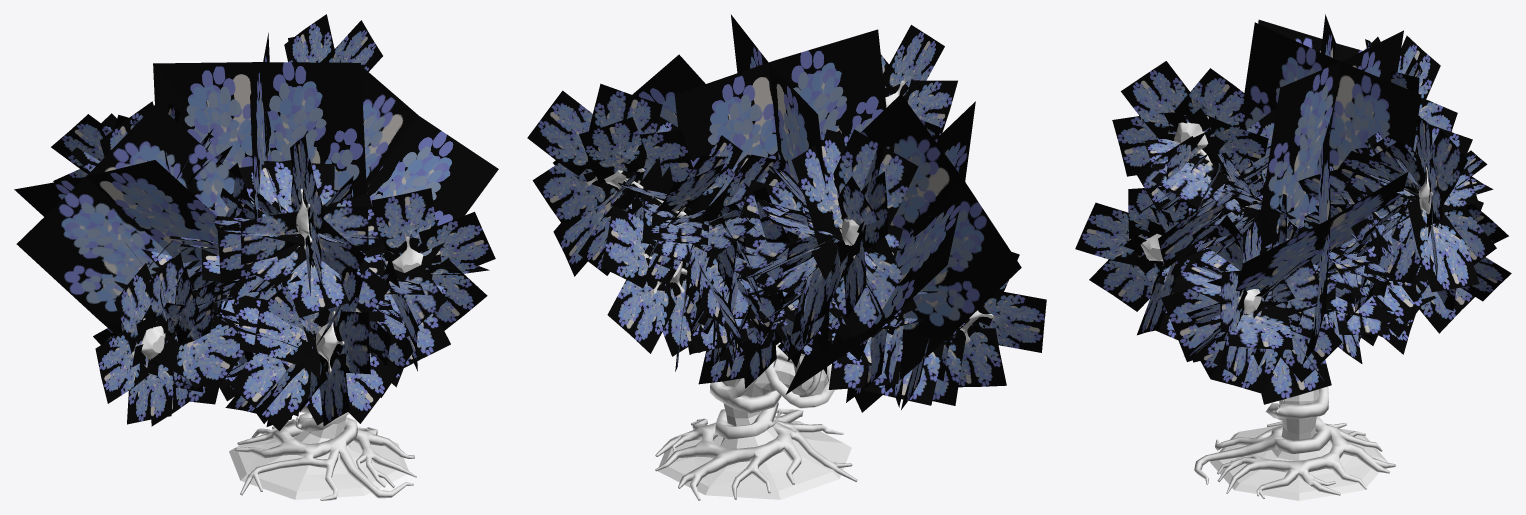
The model's file is CrystalTree.fbx.
The picture shows the model from 3 angles, left to right: view 1: azimuth 30°, elevation 25°; view 2: azimuth 150°, elevation 25°; view 3: azimuth 270°, elevation 25°; orthographic projection. The views are drawn at different scales.
Parts seen in each view (by area): view 1: Empty.045, Empty.047, Empty.043, Empty.042, Branch3.003, Rock.003, Empty.873, Empty.046, Empty.899, Empty.072, Empty.071, Empty.076 (+43 smaller); view 2: Empty.047, Empty.044, Branch3.003, Rock.003, Empty.043, Empty.045, Empty.820, Empty.829, Empty.828, Empty.066, Empty.076, Empty.059 (+43 smaller); view 3: Empty.044, Empty.045, Branch3.003, Rock.003, Empty.042, Empty.964, Empty.051, Empty.052, Empty.080, Empty.643, Empty.079, Empty.088 (+48 smaller).
Boxes of the visible parts, x1,y1,x2,y2 form: Empty.045: [153, 62, 366, 196]; Empty.047: [16, 103, 235, 334]; Empty.043: [14, 160, 223, 267]; Empty.042: [366, 116, 498, 295]; Branch3.003: [164, 333, 416, 500]; Rock.003: [229, 416, 408, 499]; Empty.873: [152, 317, 245, 392]; Empty.046: [361, 66, 418, 187]; Empty.899: [230, 353, 310, 430]; Empty.072: [371, 188, 441, 263]; Empty.071: [418, 211, 495, 278]; Empty.076: [95, 316, 152, 403]; Empty.047: [855, 94, 1021, 412]; Empty.044: [674, 29, 886, 169]; Branch3.003: [624, 178, 857, 500]; Rock.003: [657, 355, 851, 499]; Empty.043: [785, 101, 975, 394]; Empty.045: [731, 14, 829, 374]; Empty.820: [811, 236, 917, 337]; Empty.829: [791, 130, 845, 244]; Empty.828: [833, 129, 918, 250]; Empty.066: [527, 90, 592, 175]; Empty.076: [955, 290, 1046, 352]; Empty.059: [607, 244, 675, 353]; Empty.044: [1239, 22, 1421, 340]; Empty.045: [1258, 30, 1403, 253]; Branch3.003: [1194, 149, 1395, 498]; Rock.003: [1210, 389, 1387, 500]; Empty.042: [1236, 171, 1408, 291]; Empty.964: [1406, 201, 1479, 292]; Empty.051: [1121, 61, 1212, 139]; Empty.052: [1173, 68, 1257, 158]; Empty.080: [1075, 202, 1165, 265]; Empty.643: [1161, 278, 1225, 361]; Empty.079: [1089, 235, 1162, 311]; Empty.088: [1227, 304, 1293, 349].
Bounding box in the file's own units: 3173 × 2775 × 2732.
Materials: 2 (2 with a texture image).
